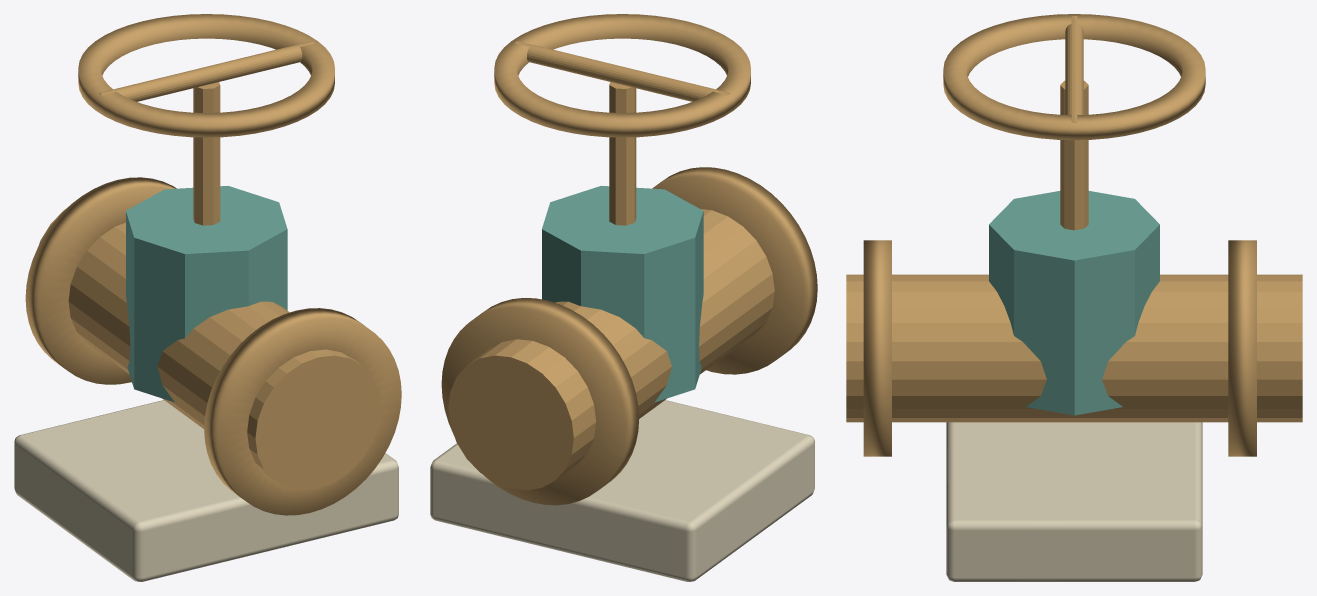
File: fantasy-bathhouse-and-thermal-sanctuary-fantasy-bathho-eb8c7cb1__29445.glb
3 renders of one model, left to right at view 1: azimuth 30°, elevation 25°; view 2: azimuth 150°, elevation 25°; view 3: azimuth 270°, elevation 25°, orthographic. The views are drawn at different scales.
Parts seen in each view (by area): view 1: fantasy-bathhouse-and-thermal-sanctuary-bronze-stop-valve; view 2: fantasy-bathhouse-and-thermal-sanctuary-bronze-stop-valve; view 3: fantasy-bathhouse-and-thermal-sanctuary-bronze-stop-valve.
Part boxes in pixels (<box>): fantasy-bathhouse-and-thermal-sanctuary-bronze-stop-valve: <box>14,14,401,581</box>; fantasy-bathhouse-and-thermal-sanctuary-bronze-stop-valve: <box>430,14,817,581</box>; fantasy-bathhouse-and-thermal-sanctuary-bronze-stop-valve: <box>846,14,1302,581</box>.
Size of the model in its own units: 0.55 by 0.871 by 0.8.
